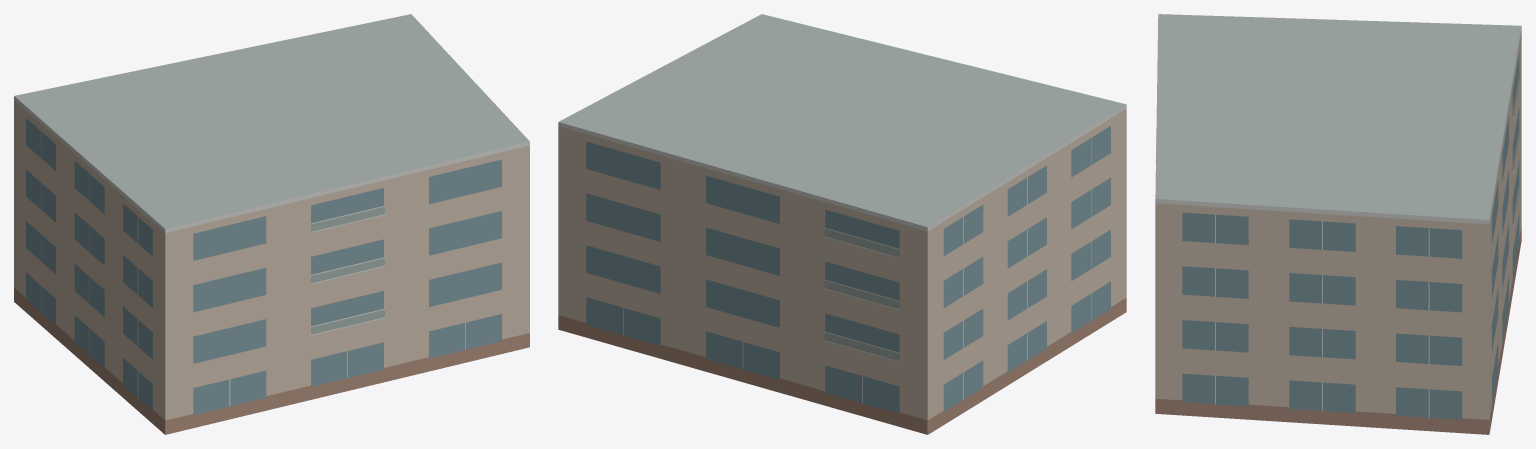
The model's file is survey-upis-32639841.glb.
3 renders of one model, left to right at view 1: azimuth 30°, elevation 25°; view 2: azimuth 150°, elevation 25°; view 3: azimuth 270°, elevation 25°, orthographic. The views are drawn at different scales.
Visible parts, largest first — view 1: survey-upis-32639841.tmp; view 2: survey-upis-32639841.tmp; view 3: survey-upis-32639841.tmp.
Boxes of the visible parts, <box> form: survey-upis-32639841.tmp: <box>14,14,529,434</box>; survey-upis-32639841.tmp: <box>558,14,1126,434</box>; survey-upis-32639841.tmp: <box>1155,14,1521,434</box>.
Size of the model in its own units: 25.11 by 12.2 by 18.86.
